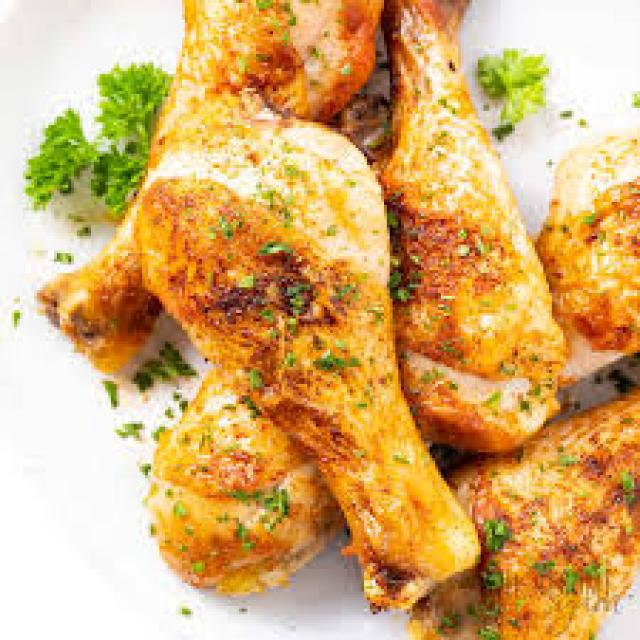Frango: (37, 0, 640, 634)
